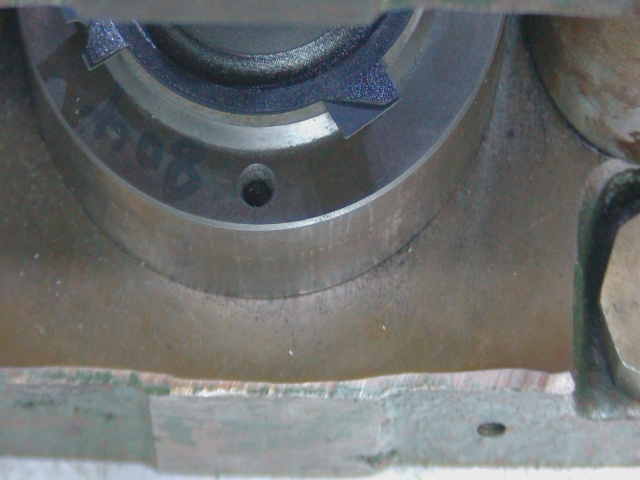HX3: (324, 62, 408, 146)
